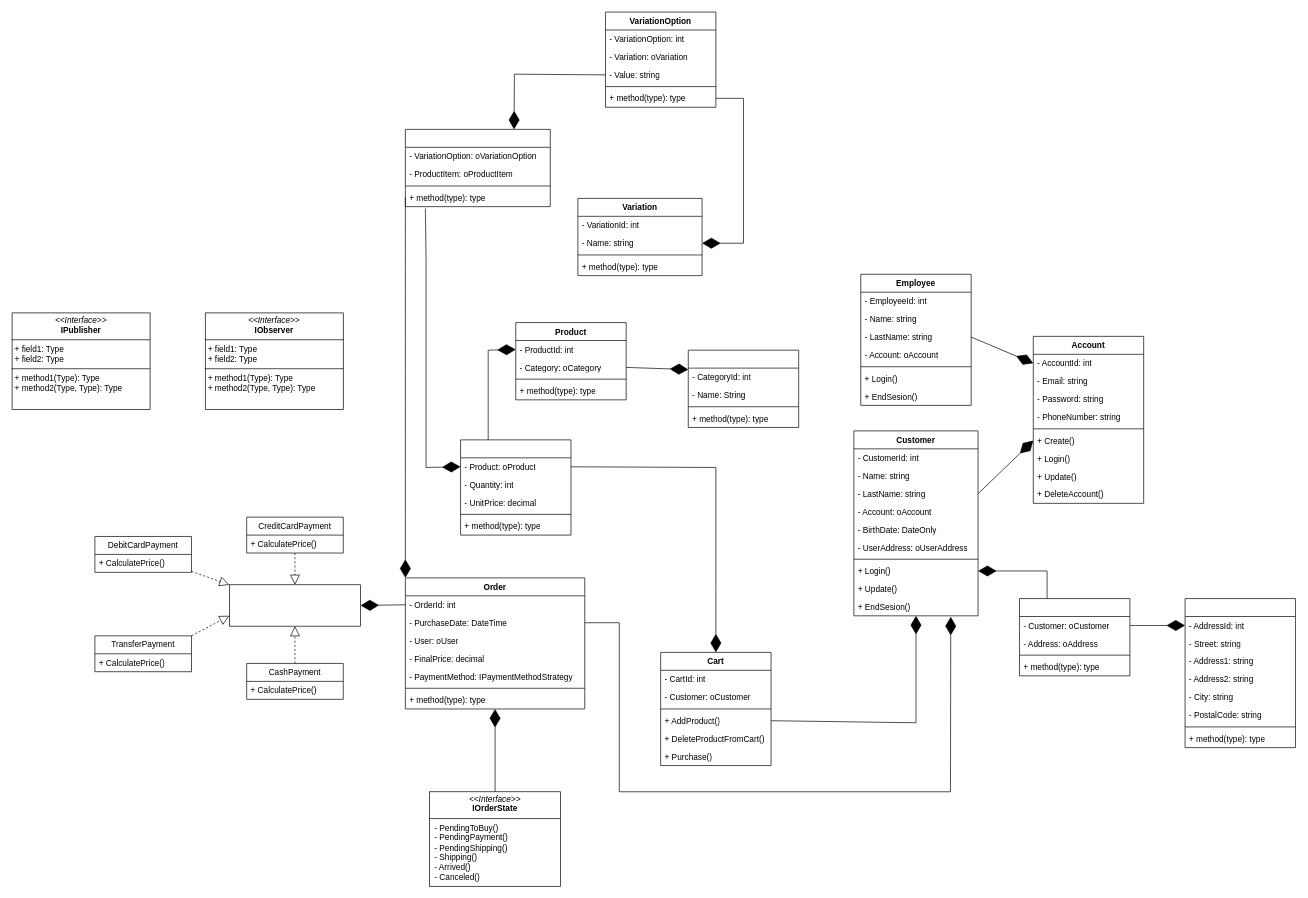
This 1308x898 diagram has some shape labels left out. Here are the shapes that lost their labels. From the top down, the box of each, then its label:
(405, 129, 550, 207): ProductConfiguration
(688, 349, 799, 427): ProductCategory
(460, 439, 571, 535): ProductItem
(229, 584, 361, 626): <<Interface>> IPaymentMethodStrategy + CalculatePrice()
(1019, 598, 1130, 676): UserAddress
(1184, 598, 1295, 748): Adress
